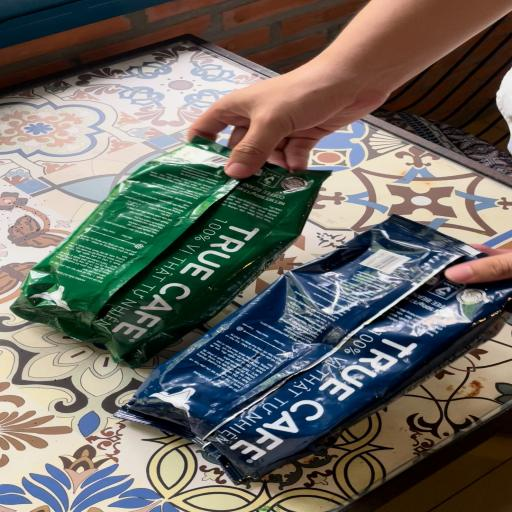cafe_hat: (116, 214, 512, 480)
cafe_xay: (11, 137, 329, 366)
